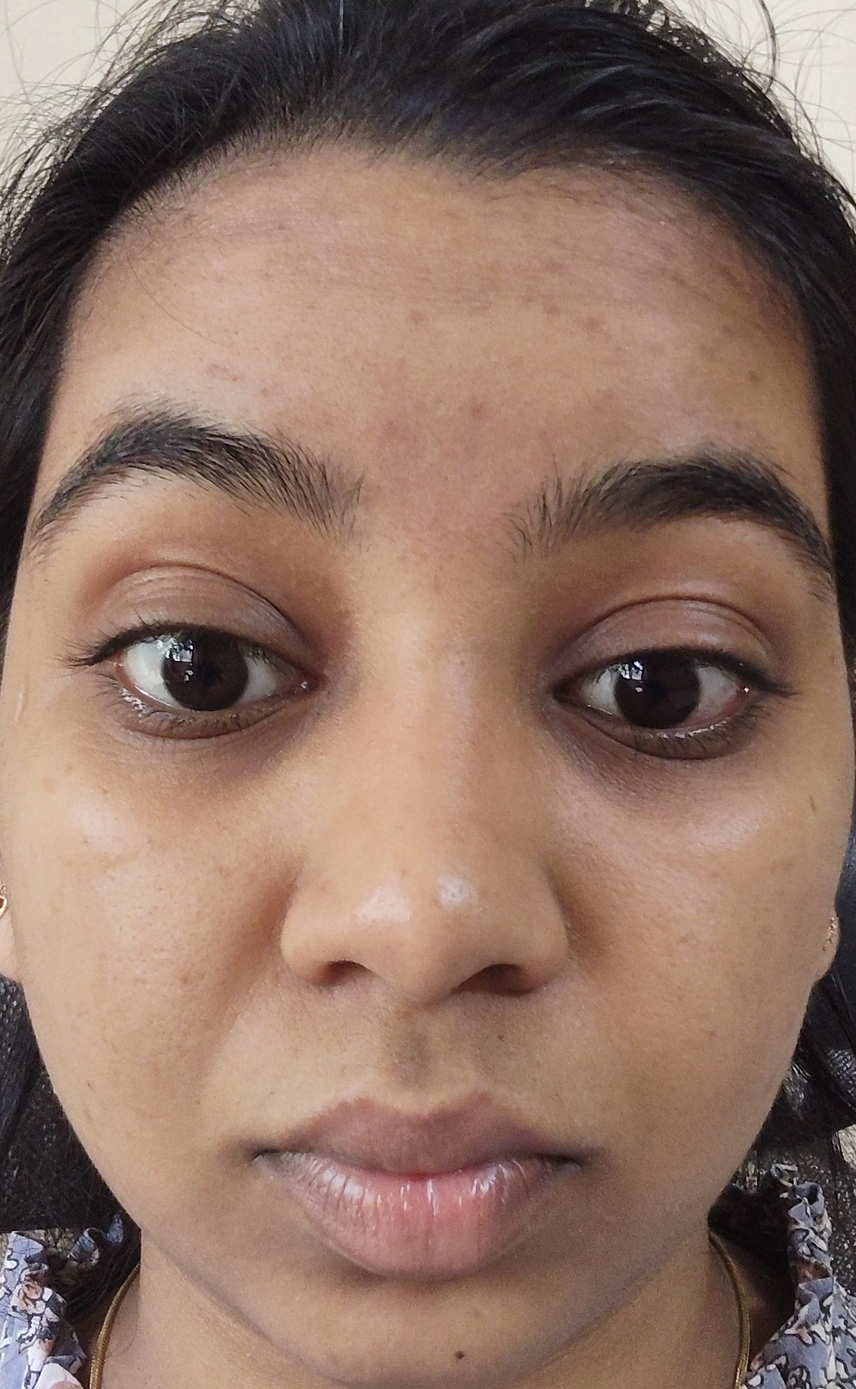papule: (382, 290, 453, 345), (449, 377, 499, 443), (359, 404, 405, 469), (527, 283, 582, 324)
